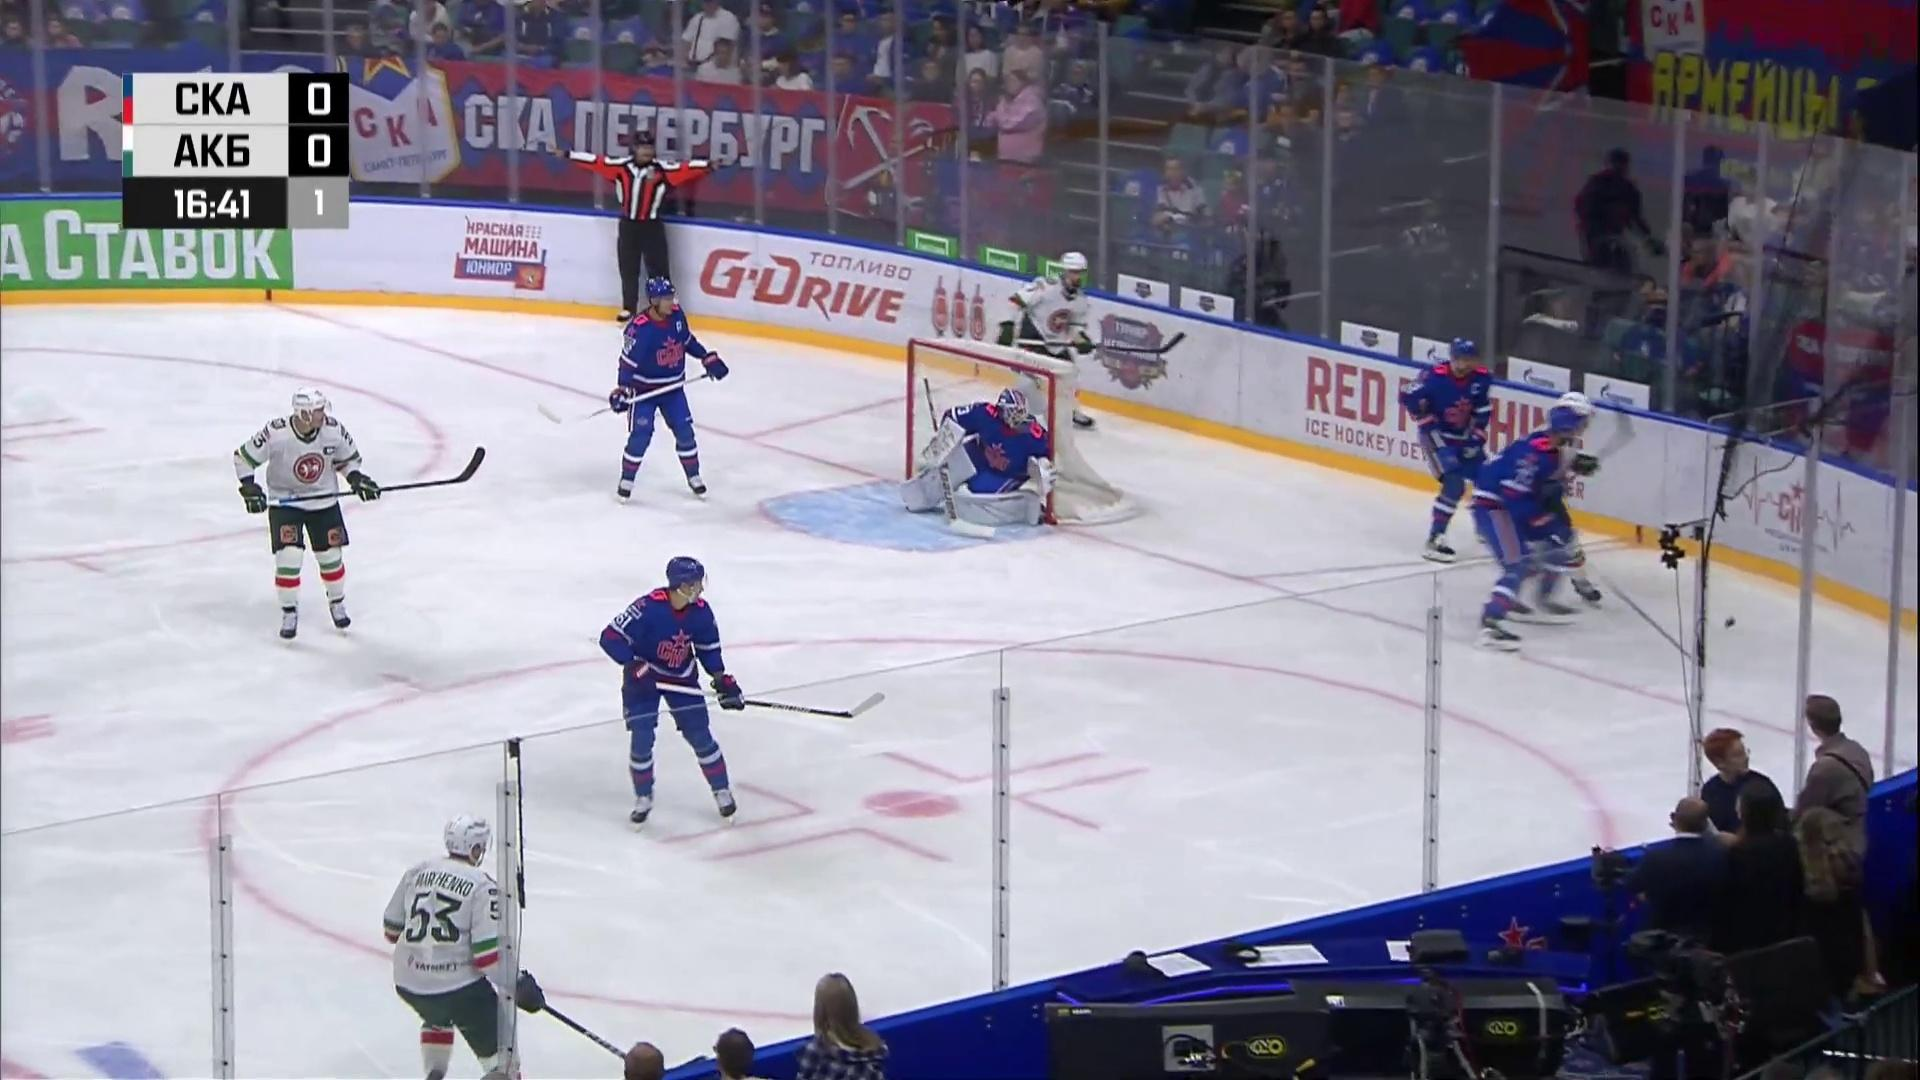ball: (1724, 616, 1734, 629)
